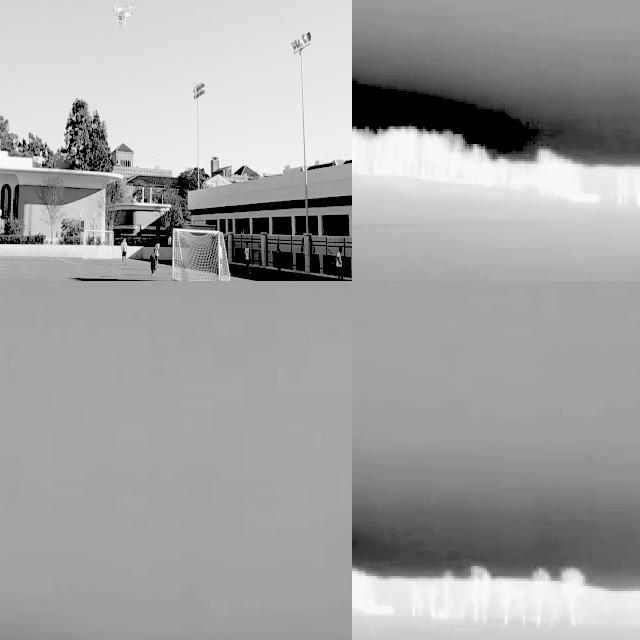drone: (111, 5, 134, 29)
